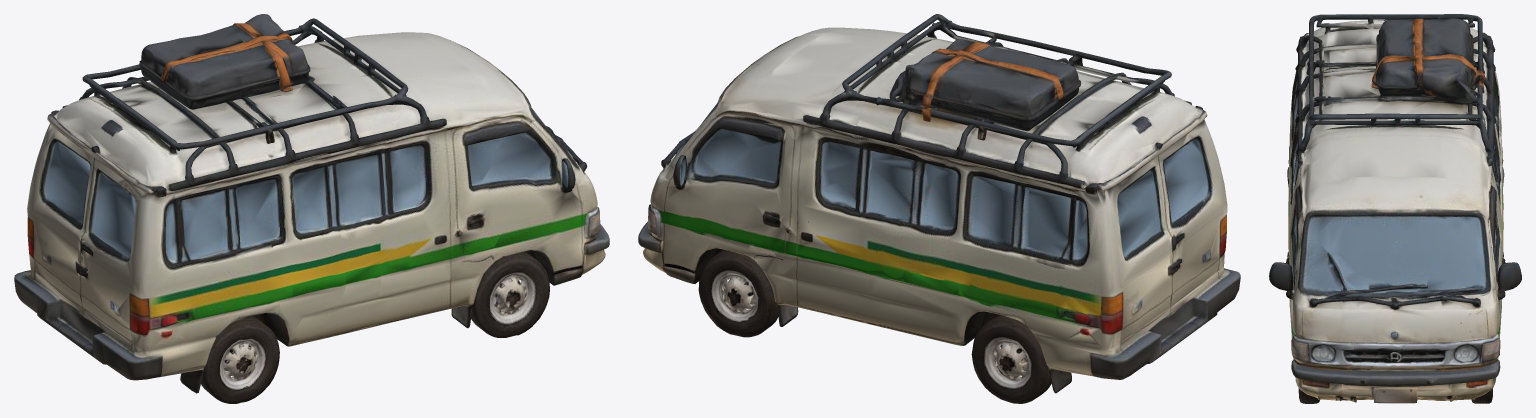
The model's file is tokpa.glb.
3 views of the same model, side by side, from view 1: azimuth 30°, elevation 25°; view 2: azimuth 150°, elevation 25°; view 3: azimuth 270°, elevation 25° (orthographic). The views are drawn at different scales.
Parts seen in each view (by area): view 1: tripo_node_0930b12c-4376-4820-b959-d7e9bcef01a2; view 2: tripo_node_0930b12c-4376-4820-b959-d7e9bcef01a2; view 3: tripo_node_0930b12c-4376-4820-b959-d7e9bcef01a2.
Boxes of the visible parts, x1=… form: tripo_node_0930b12c-4376-4820-b959-d7e9bcef01a2: x1=14, y1=14, x2=609, y2=403; tripo_node_0930b12c-4376-4820-b959-d7e9bcef01a2: x1=638, y1=14, x2=1240, y2=403; tripo_node_0930b12c-4376-4820-b959-d7e9bcef01a2: x1=1269, y1=14, x2=1521, y2=403.
Bounding box in the file's own units: 0.9997 × 0.5684 × 0.4915.
1 material, 1 textured.
